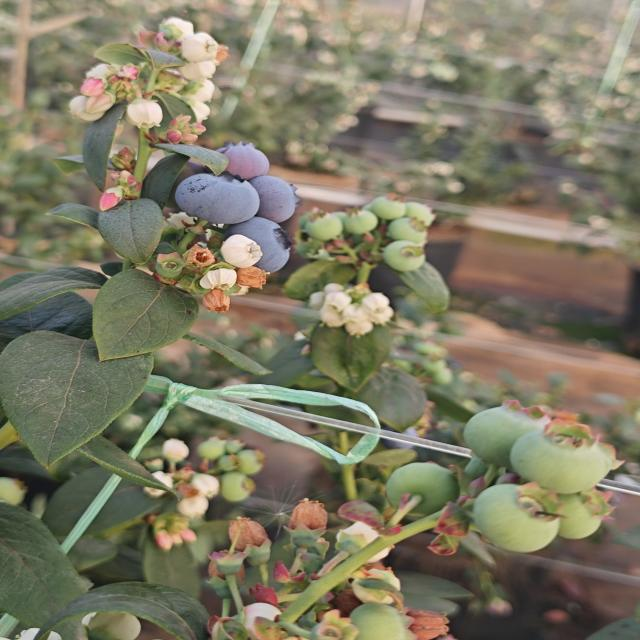ripe: (172, 171, 262, 227), (227, 217, 292, 273), (212, 144, 274, 174), (262, 180, 308, 219)
